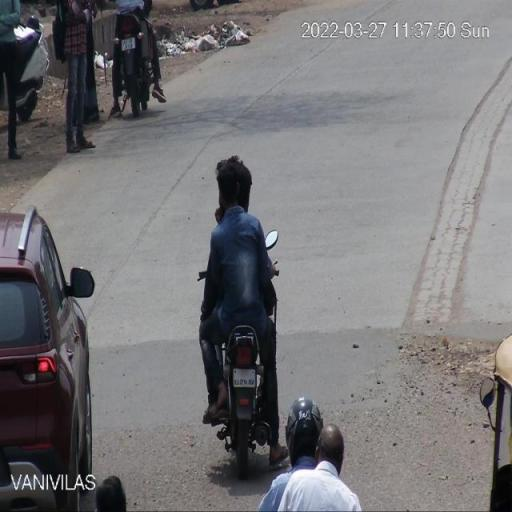tripple riding: (197, 151, 280, 312)
